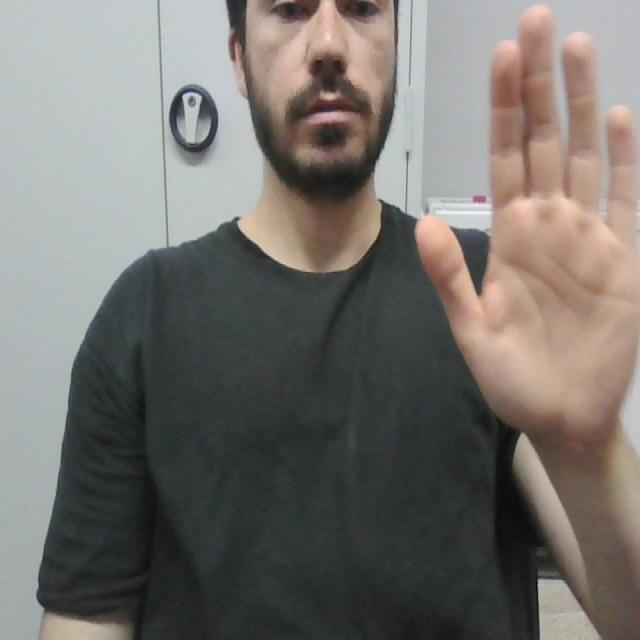Dur: (412, 14, 640, 424)
